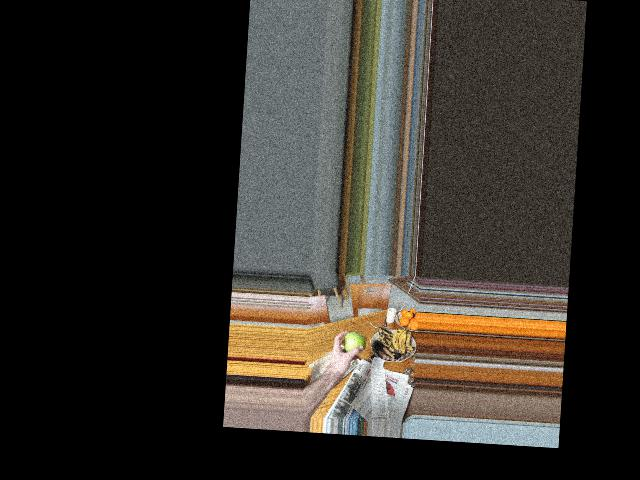apple: (343, 330, 365, 357)
